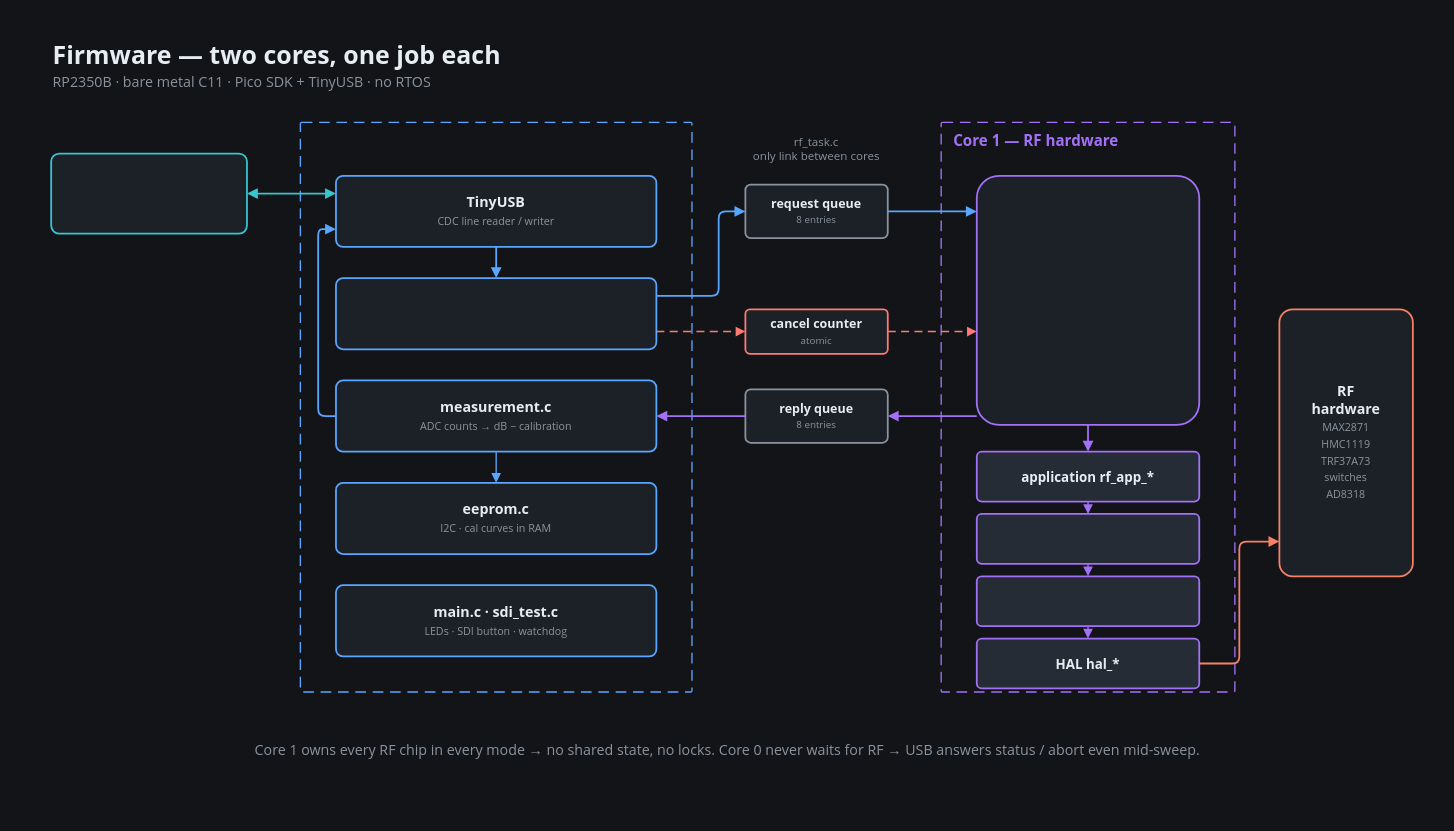
This 1454x831 diagram has some shape labels left out. The box of each missing label's shape, as (x1, y1, x2, y2) in pixels:
blocks rf_ctrl_*: (975, 575, 1200, 627)
Core 0 — communication: (299, 121, 692, 692)
PC client USB CDC · JSON lines: (50, 152, 247, 234)
protocol.c parse · validate · reply: (335, 277, 657, 350)
rf_task loop one request or one sweep point per step: (975, 174, 1200, 425)
state rf_state_*: (975, 513, 1200, 564)
